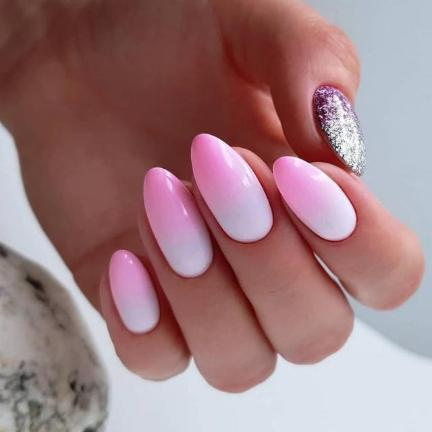Nail: (191, 133, 273, 243), (143, 167, 213, 278), (273, 156, 357, 241), (312, 85, 367, 178), (109, 250, 159, 334)
